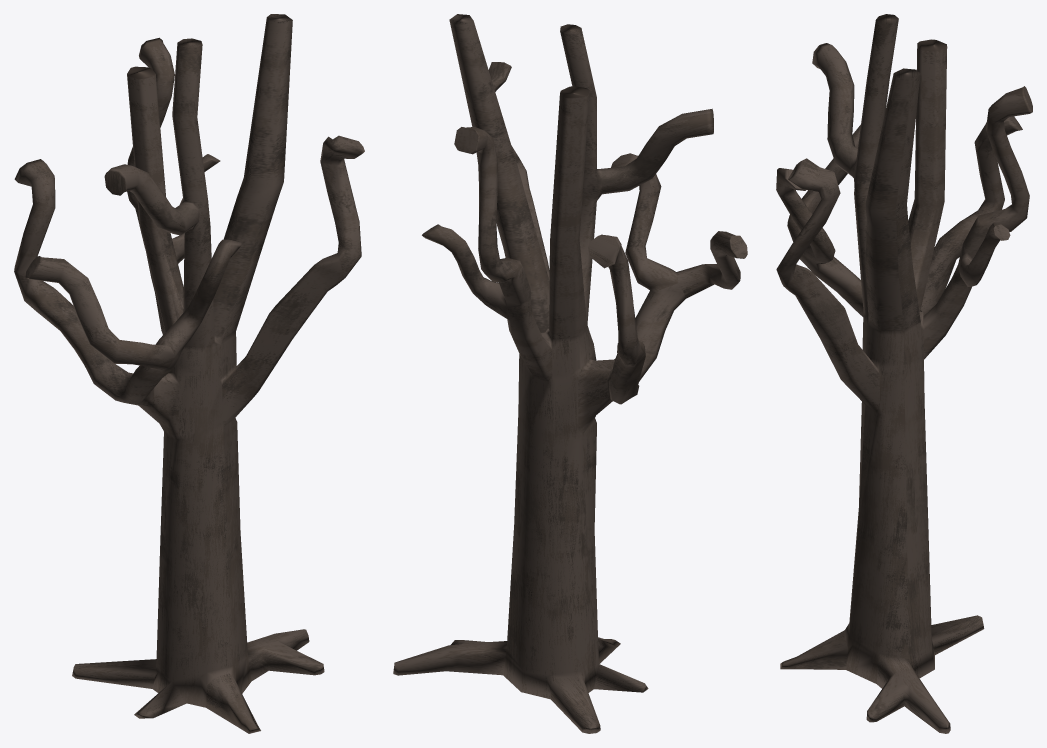
The model's file is Tree_Big.obj.
3 views of the same model, side by side, from view 1: azimuth 30°, elevation 25°; view 2: azimuth 150°, elevation 25°; view 3: azimuth 270°, elevation 25° (orthographic). The views are drawn at different scales.
Parts seen in each view (by area): view 1: Tree_Big; view 2: Tree_Big; view 3: Tree_Big.
Part boxes in pixels (bbox=[...]): Tree_Big: bbox=[14, 14, 364, 733]; Tree_Big: bbox=[393, 14, 747, 733]; Tree_Big: bbox=[776, 14, 1032, 733].
Size of the model in its own units: 17.67 by 34.93 by 12.62.
